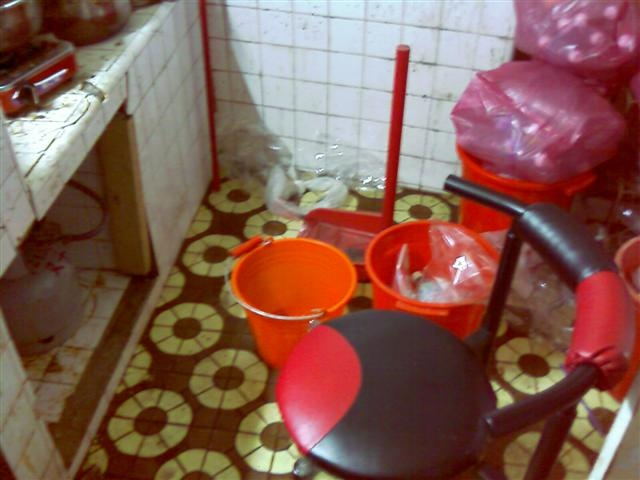bucket: (227, 235, 359, 370), (365, 217, 500, 337), (454, 142, 598, 233)
plastic_bag: (449, 61, 628, 180)
